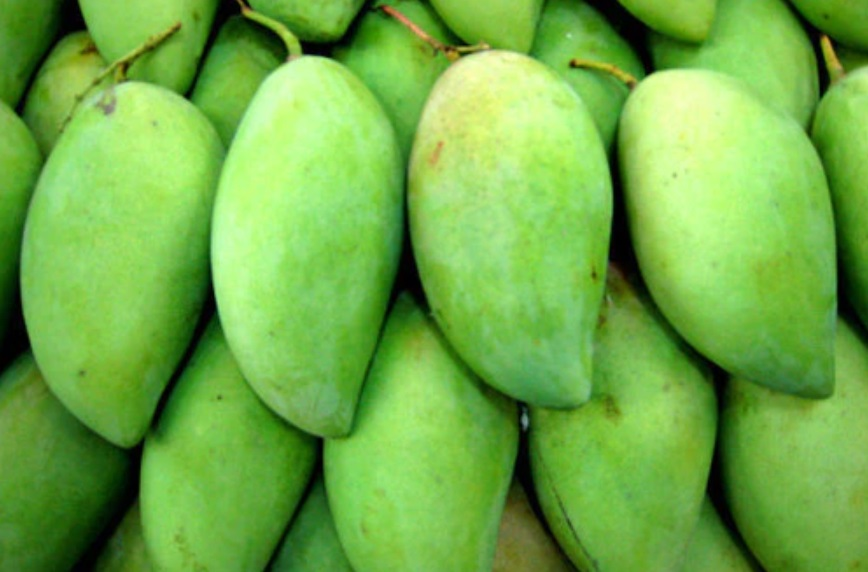Green: (24, 10, 856, 557)
